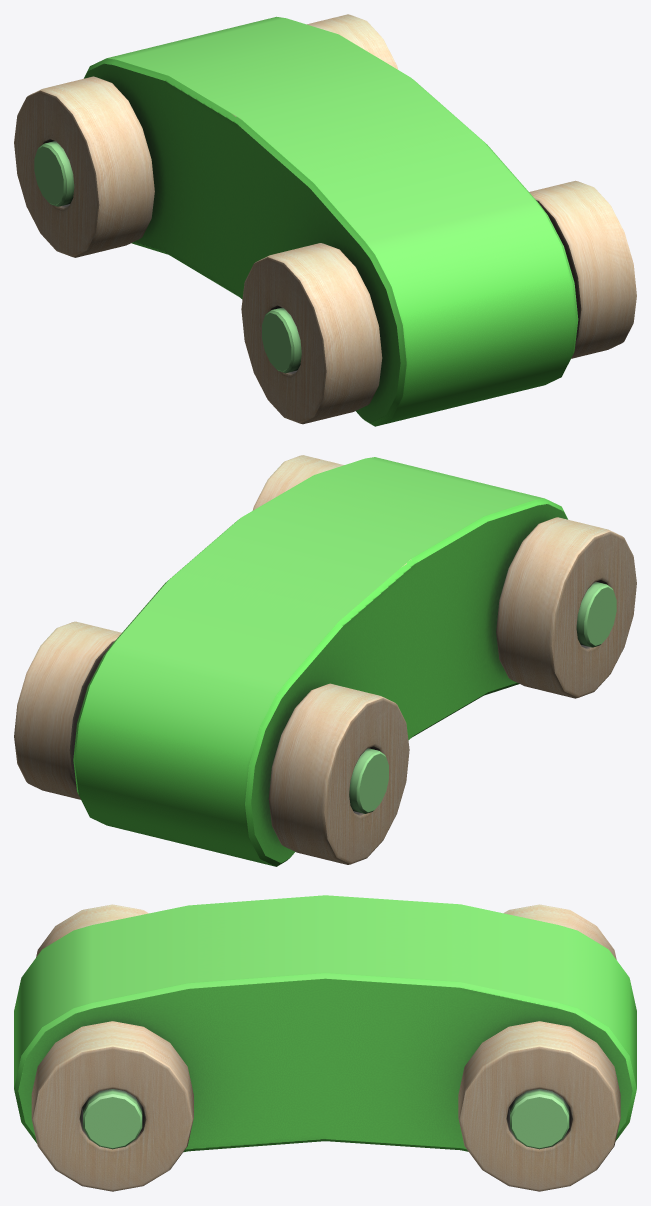
File: greencar.fbx
The picture shows the model from 3 angles, top to bottom: view 1: azimuth 30°, elevation 25°; view 2: azimuth 150°, elevation 25°; view 3: azimuth 270°, elevation 25°; orthographic projection. The views are drawn at different scales.
Visible parts, largest first — view 1: pCylinder5, pCylinder8, pCylinder6, pCylinder7, pCylinder9; view 2: pCylinder5, pCylinder6, pCylinder8, pCylinder9, pCylinder7; view 3: pCylinder5, pCylinder6, pCylinder8, pCylinder9, pCylinder7.
Boxes of the visible parts, left/top/right/bottom form: pCylinder5: left=84, top=16, right=578, bottom=426; pCylinder8: left=241, top=180, right=636, bottom=424; pCylinder6: left=14, top=14, right=398, bottom=257; pCylinder7: left=34, top=141, right=74, bottom=206; pCylinder9: left=262, top=307, right=301, bottom=373; pCylinder5: left=73, top=457, right=567, bottom=866; pCylinder6: left=14, top=621, right=409, bottom=864; pCylinder8: left=252, top=455, right=636, bottom=698; pCylinder9: left=576, top=582, right=616, bottom=647; pCylinder7: left=349, top=748, right=388, bottom=813; pCylinder5: left=14, top=895, right=636, bottom=1152; pCylinder6: left=458, top=904, right=620, bottom=1191; pCylinder8: left=31, top=904, right=193, bottom=1191; pCylinder9: left=83, top=1089, right=142, bottom=1149; pCylinder7: left=510, top=1089, right=569, bottom=1149.
Bounding box in the file's own units: 4.34 × 2.69 × 7.67.
